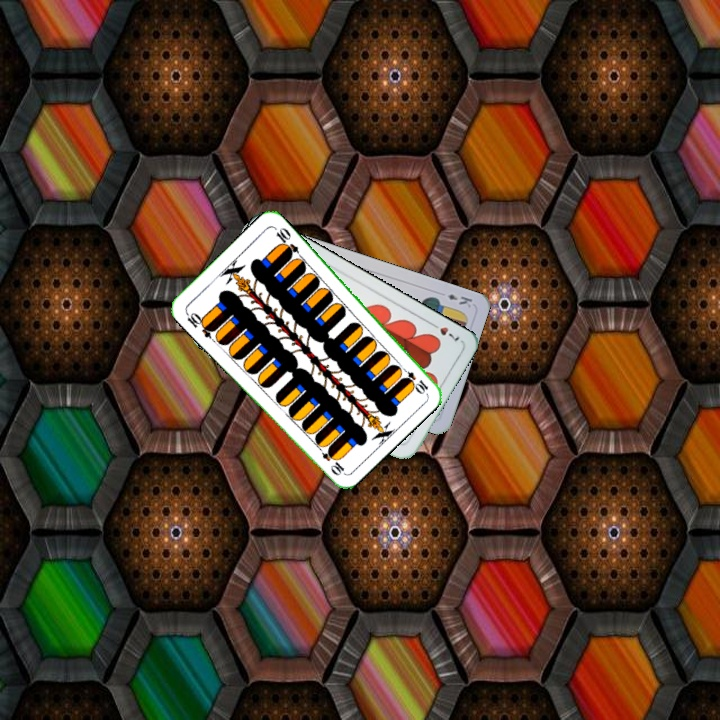E10: (396, 362, 431, 396), (182, 308, 217, 341)
EK: (443, 290, 475, 310)
H7: (426, 318, 462, 345)
